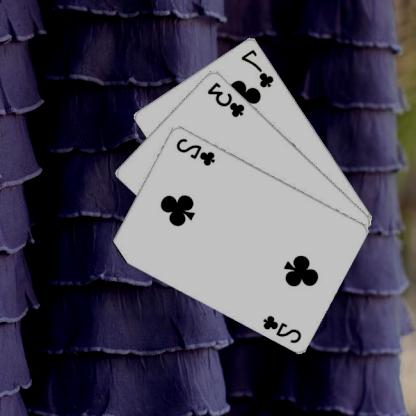2C: (175, 135, 218, 167), (262, 312, 304, 344)
3C: (206, 79, 248, 118)
7C: (240, 46, 277, 89)
